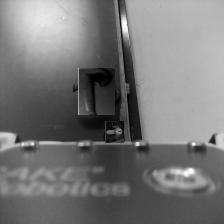Door Handle: (76, 70, 118, 113)
Lock: (104, 122, 124, 142)
